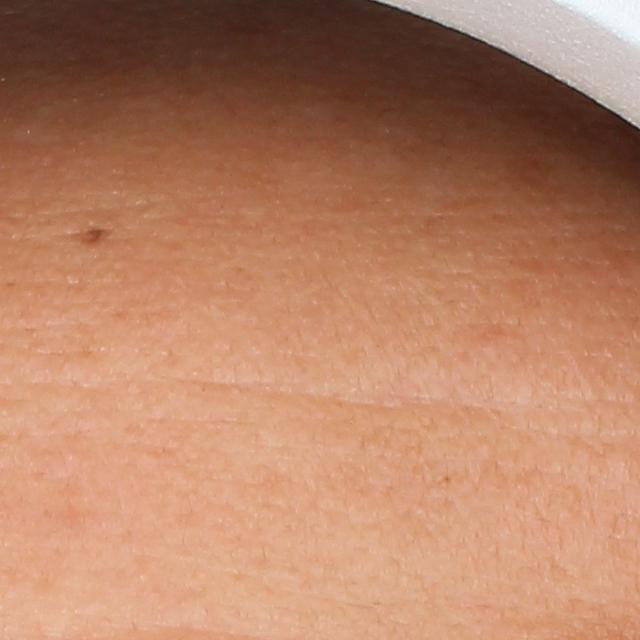nevus: (72, 222, 115, 253)
